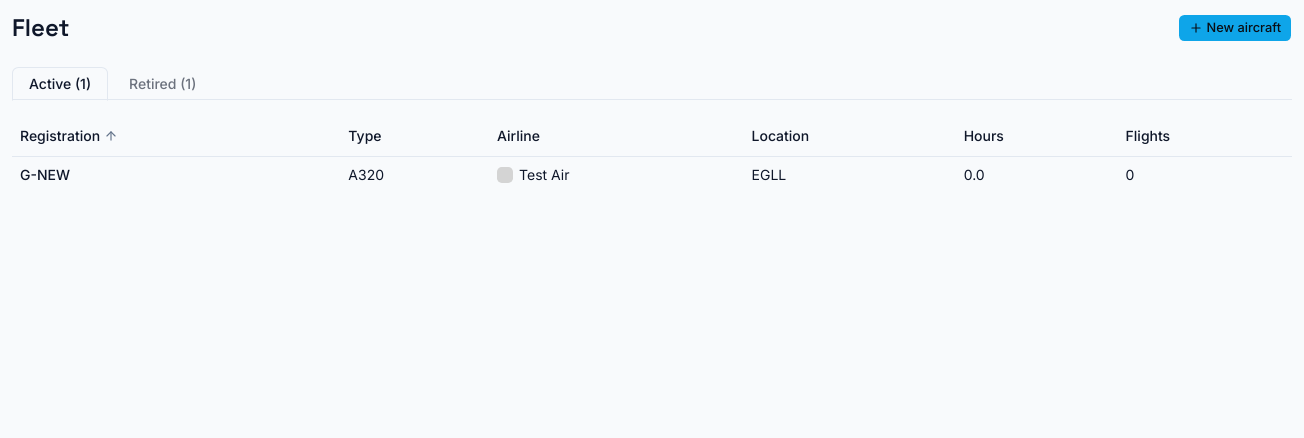
Test: FleetView › opens a retired aircraft’s own detail page from its row, and its replaced-by link navigates onward
This screenshot has width=1304, height=438.
Click the tab "Retired (1)": (163, 84) [112,67,213,101]
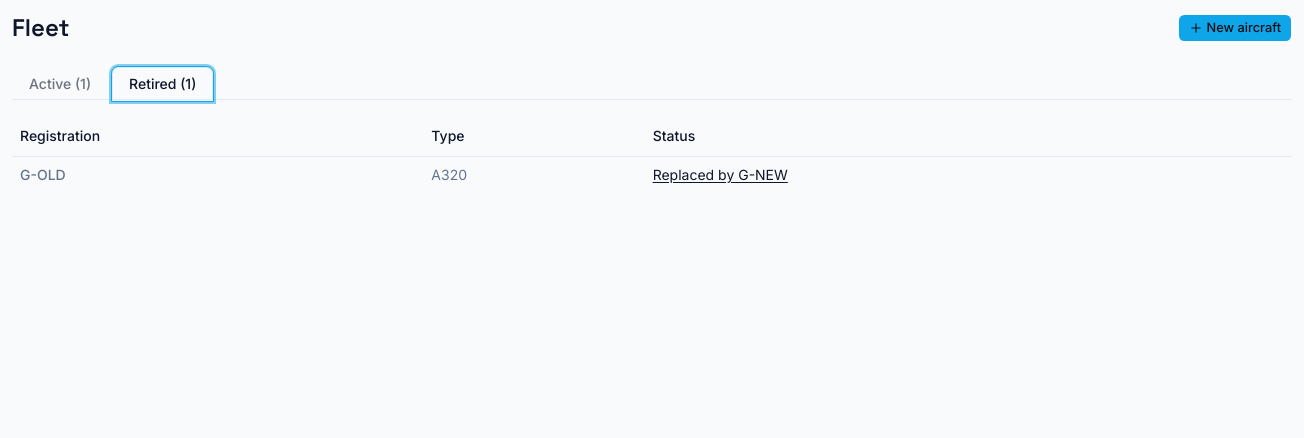
Expected: the text "G-OLD" is shown
Note: Click the row itself, not the replacement link within it.
Click the text "G-OLD": (43, 174) [12,156,423,192]
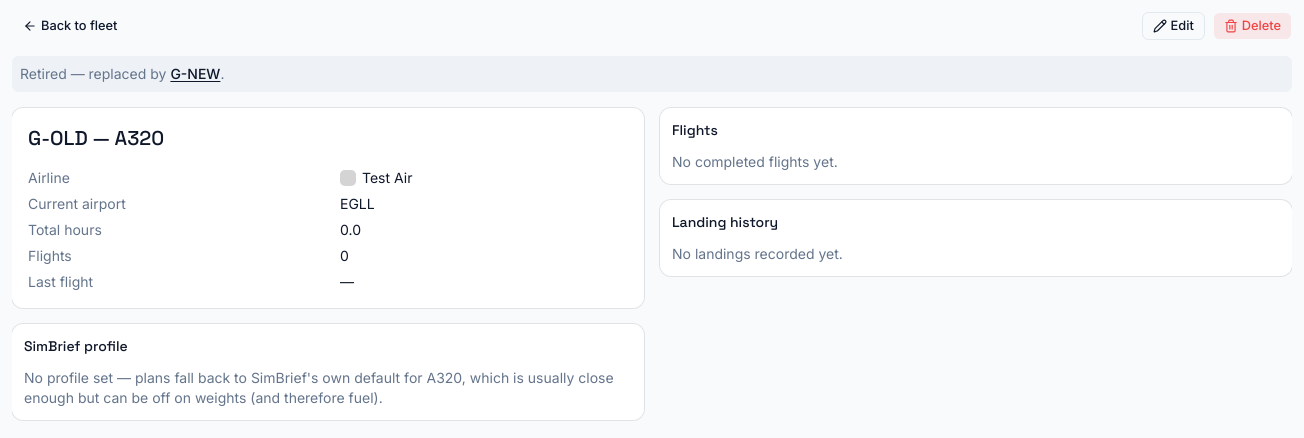
Expected: the text "G-OLD — A320" is shown, [28,125,164,151]
Expected: the text "Retired — replaced by G-NEW ." is shown, [12,56,1292,92]
Click the button "G-NEW": (195, 74) [170,64,220,84]
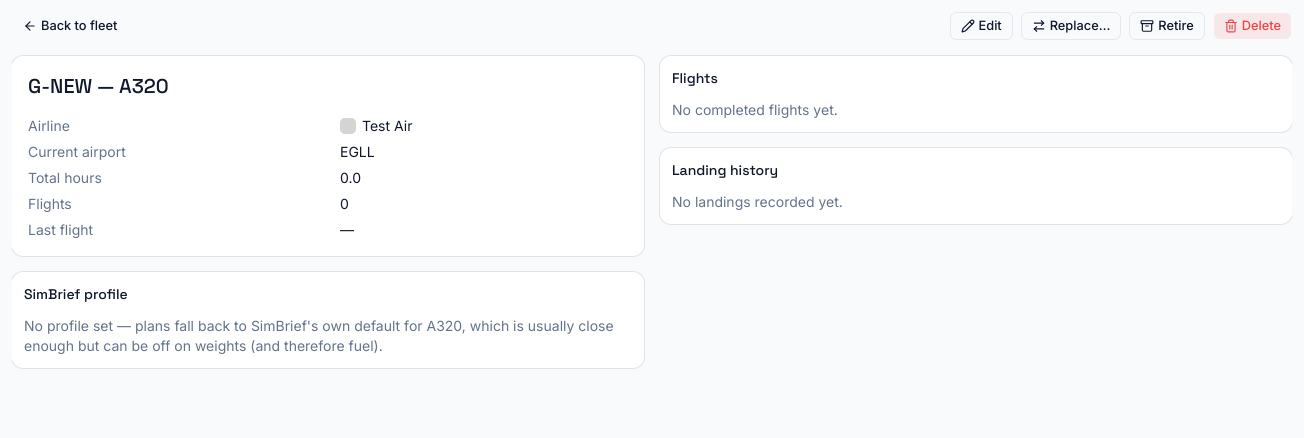
Expected: the text "G-NEW — A320" is shown, [28,73,169,99]
